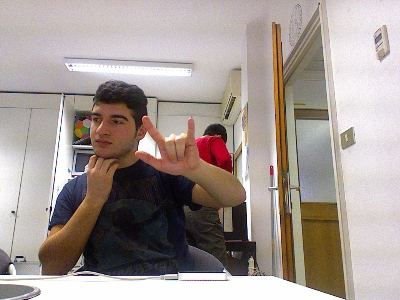我爱你: (133, 113, 200, 176)
